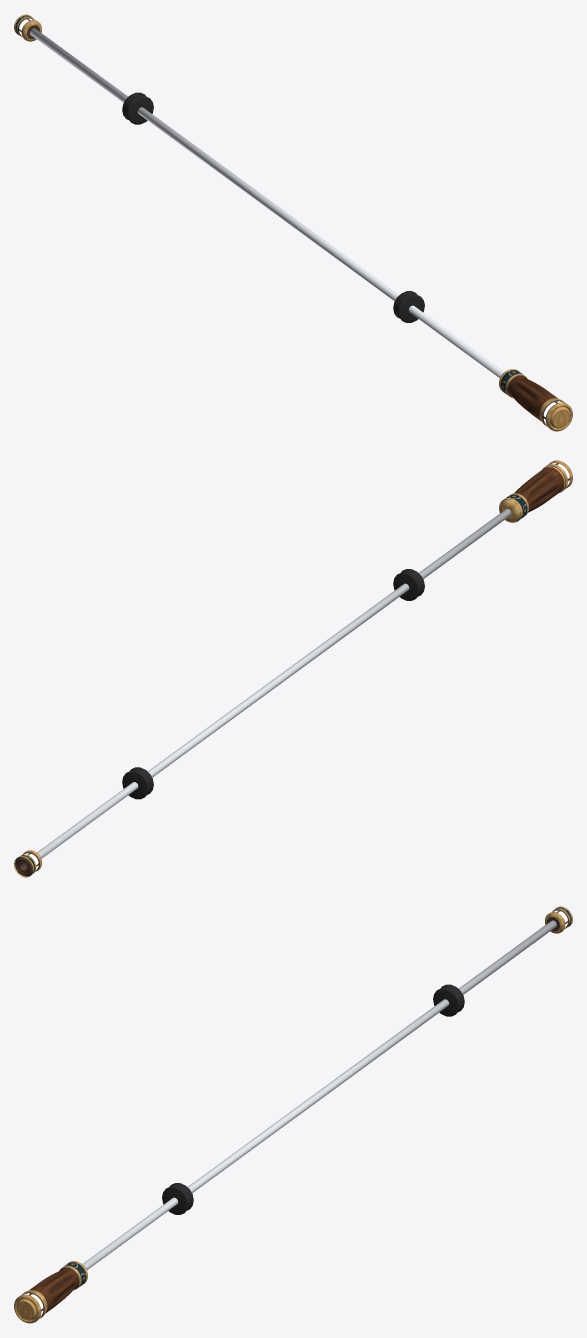
Rendered from fuzeball_rod_5man.glb.
3 renders of one model, top to bottom at view 1: azimuth 30°, elevation 25°; view 2: azimuth 150°, elevation 25°; view 3: azimuth 330°, elevation 25°, orthographic.
Parts seen in each view (by area): view 1: rod5_bar.002, rod5_handle_walnut_grip, CylinderR, CylinderL; view 2: rod5_bar.002, rod5_handle_walnut_grip, CylinderR, CylinderL; view 3: rod5_bar.002, rod5_handle_walnut_grip, CylinderR, CylinderL.
Boxes of the visible parts, <box> form: rod5_bar.002: <box>30,28,504,377</box>; rod5_handle_walnut_grip: <box>508,376,557,421</box>; CylinderR: <box>122,92,153,124</box>; CylinderL: <box>393,291,424,322</box>; rod5_bar.002: <box>37,509,511,858</box>; rod5_handle_walnut_grip: <box>514,467,564,512</box>; CylinderR: <box>122,767,153,799</box>; CylinderL: <box>393,569,424,600</box>; rod5_bar.002: <box>82,920,556,1269</box>; rod5_handle_walnut_grip: <box>29,1268,78,1313</box>; CylinderR: <box>433,984,464,1016</box>; CylinderL: <box>162,1183,193,1214</box>.
Size of the model in its own units: 3.02 by 3.02 by 105.
8 materials, 6 textured.
